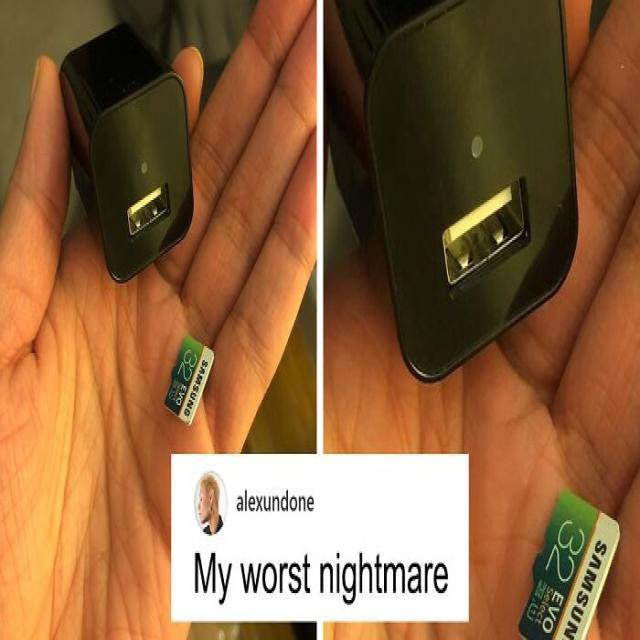hidden camera: (468, 130, 488, 162), (140, 155, 150, 177)
